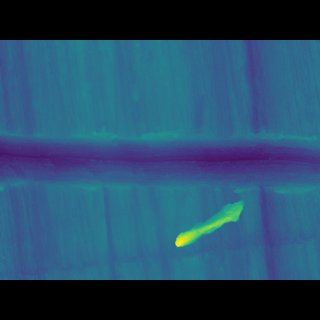Loch: (0, 132, 320, 190), (171, 189, 248, 226)
